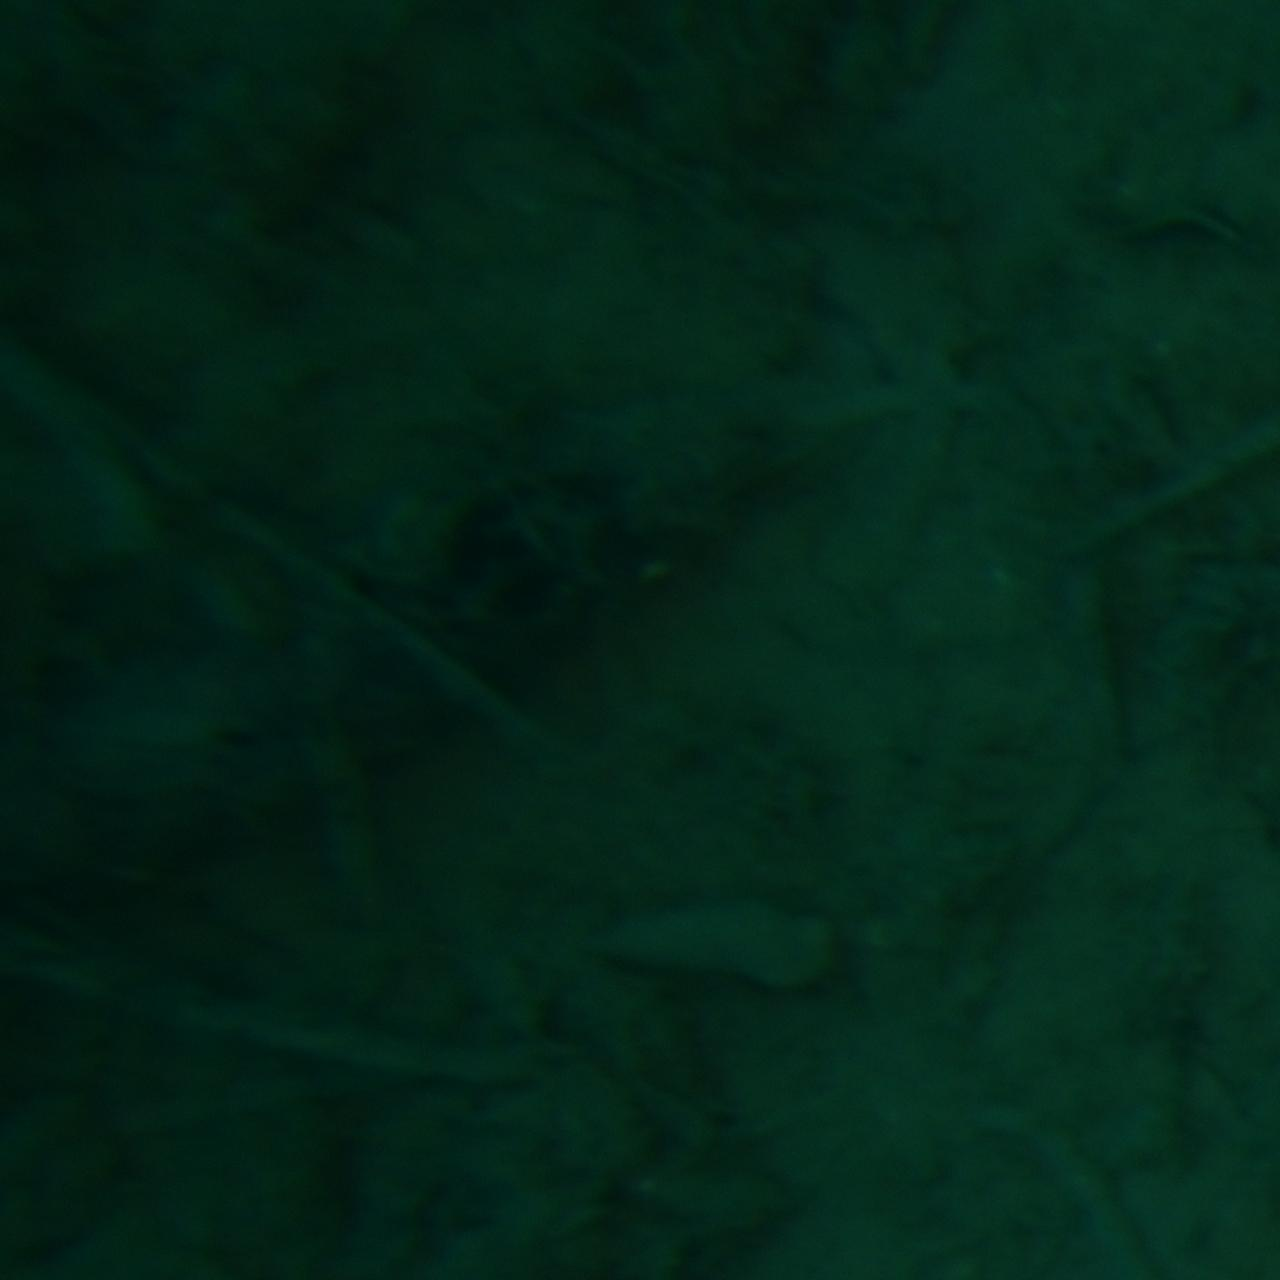Holothuria tubulosa: (0, 382, 802, 898)
